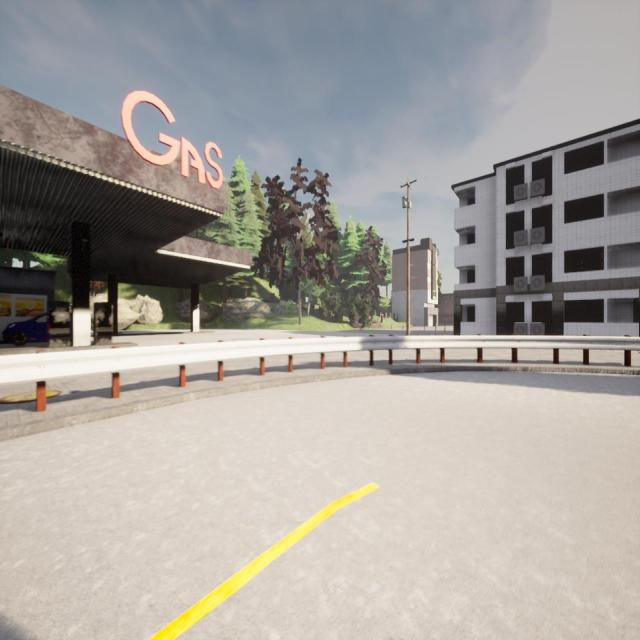Vehicle: (1, 310, 47, 346)
